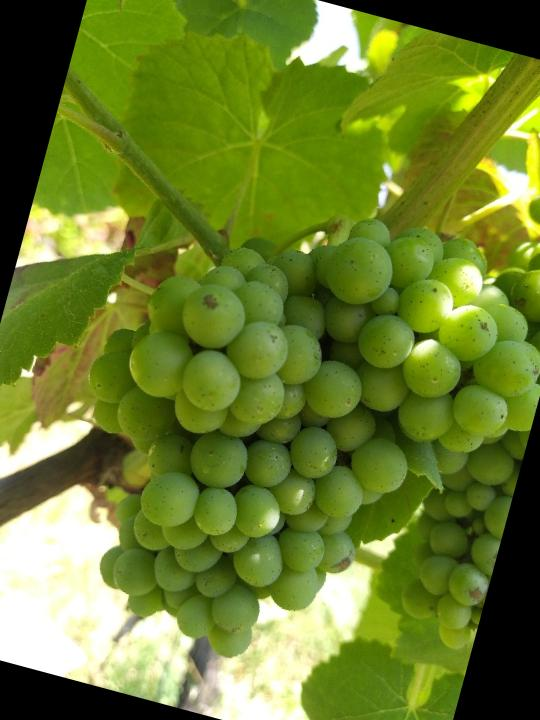grape: (25, 149, 540, 720)
